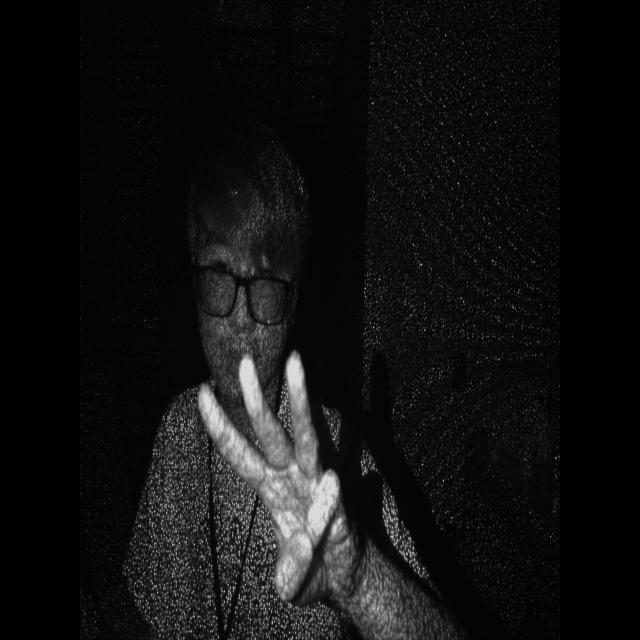W: (186, 336, 363, 626)
